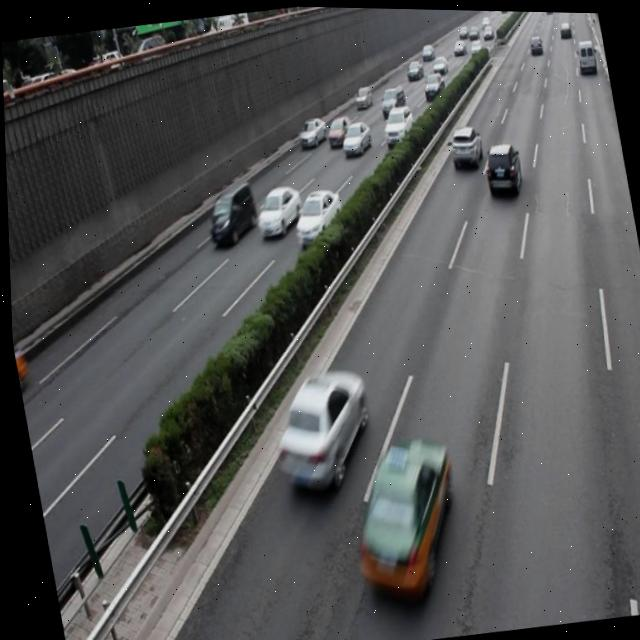car: (329, 430, 468, 611), (258, 363, 376, 495), (287, 185, 347, 248), (248, 181, 304, 239), (478, 138, 523, 197), (444, 120, 484, 169), (337, 117, 372, 158)
truck: (200, 175, 257, 245)
